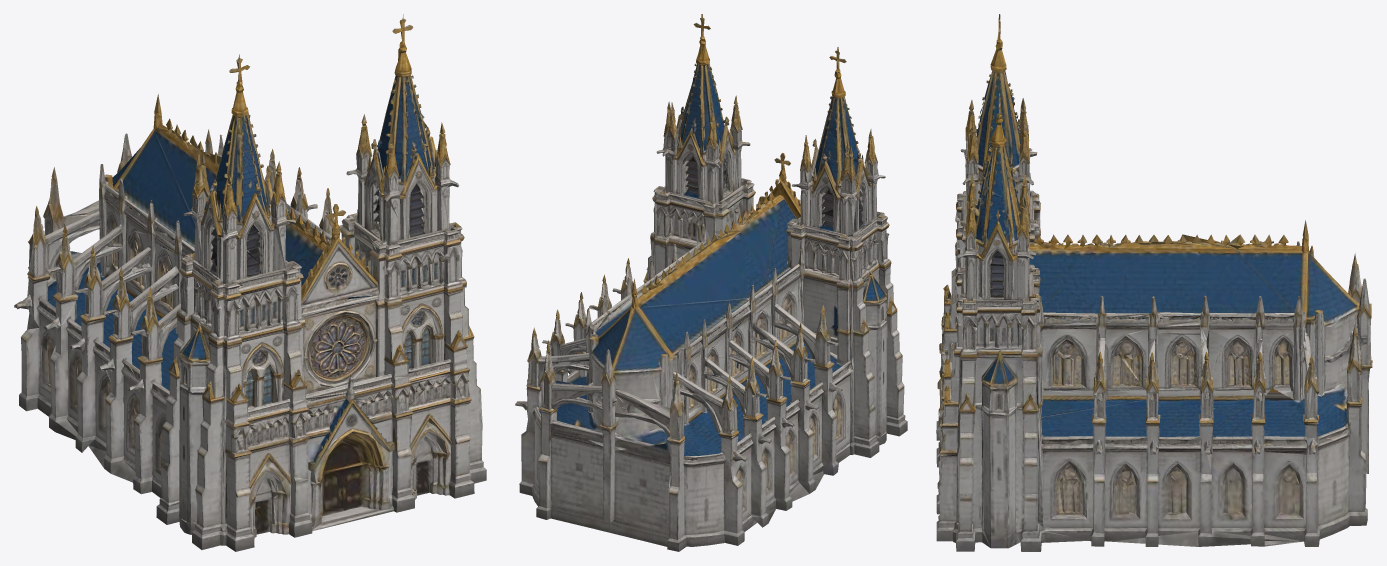
The model's file is bld_cathedral.glb.
The picture shows the model from 3 angles, left to right: view 1: azimuth 30°, elevation 25°; view 2: azimuth 150°, elevation 25°; view 3: azimuth 270°, elevation 25°; orthographic projection. The views are drawn at different scales.
Parts seen in each view (by area): view 1: output_unwrapped; view 2: output_unwrapped; view 3: output_unwrapped.
Part boxes in pixels (box(x1,y1,x2,y2)): output_unwrapped: box(14, 14, 486, 551); output_unwrapped: box(515, 14, 907, 551); output_unwrapped: box(936, 14, 1372, 551).
Size of the model in its own units: 1.22 by 1.9 by 1.73.
Materials: 1 (1 with a texture image).
